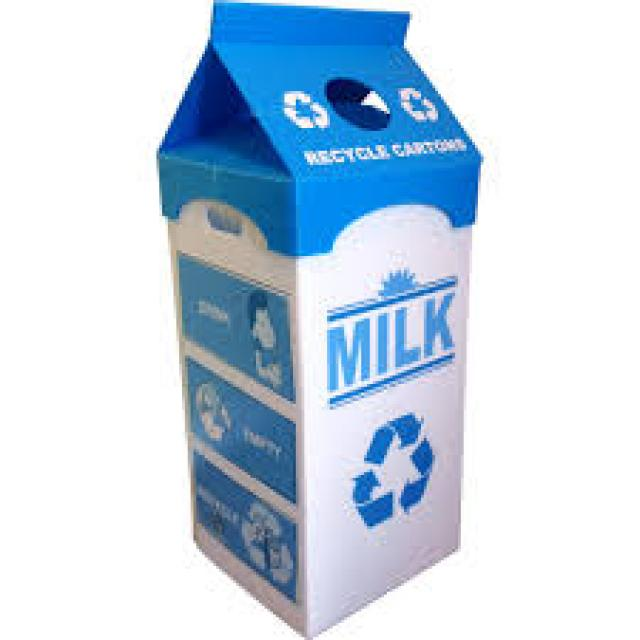cardboard: (156, 0, 477, 634)
